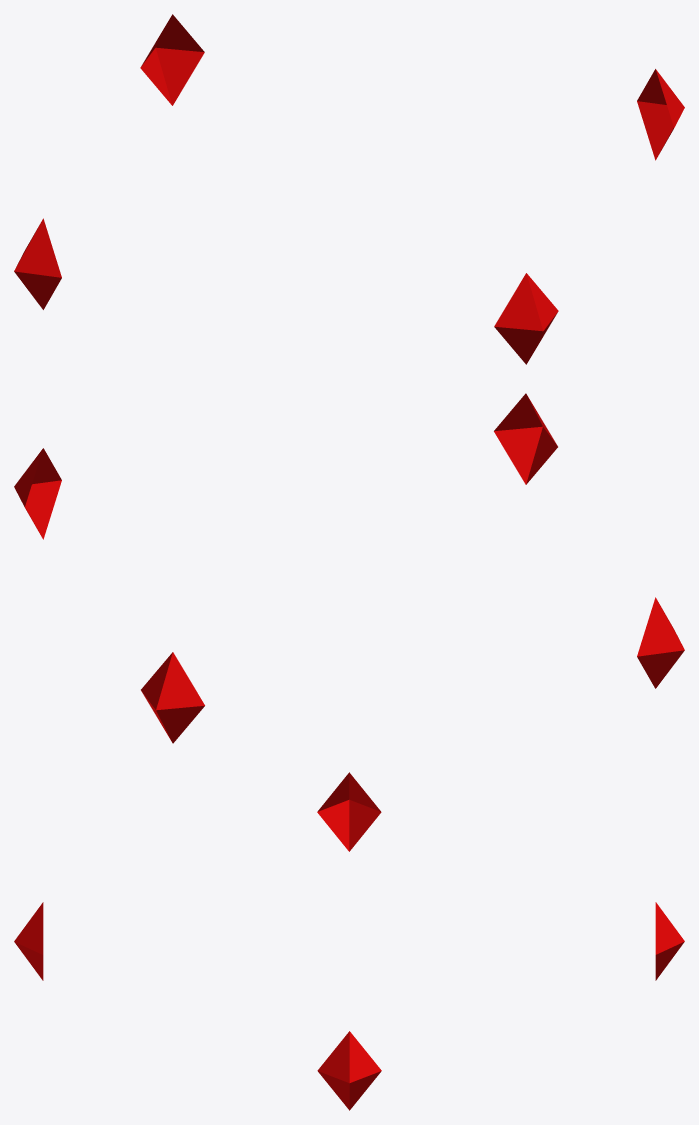
File: objCrown_Jewels.fbx
The picture shows the model from 3 angles, top to bottom: view 1: azimuth 30°, elevation 25°; view 2: azimuth 150°, elevation 25°; view 3: azimuth 270°, elevation 25°; orthographic projection. The views are drawn at different scales.
Visible parts, largest first — view 1: Jewels; view 2: Jewels; view 3: Jewels.
Boxes of the visible parts, x1=… form: Jewels: x1=14, y1=14, x2=684, y2=364; Jewels: x1=14, y1=393, x2=684, y2=743; Jewels: x1=14, y1=772, x2=684, y2=1110.
Size of the model in its own units: 1.09 by 0.1435 by 1.09.
